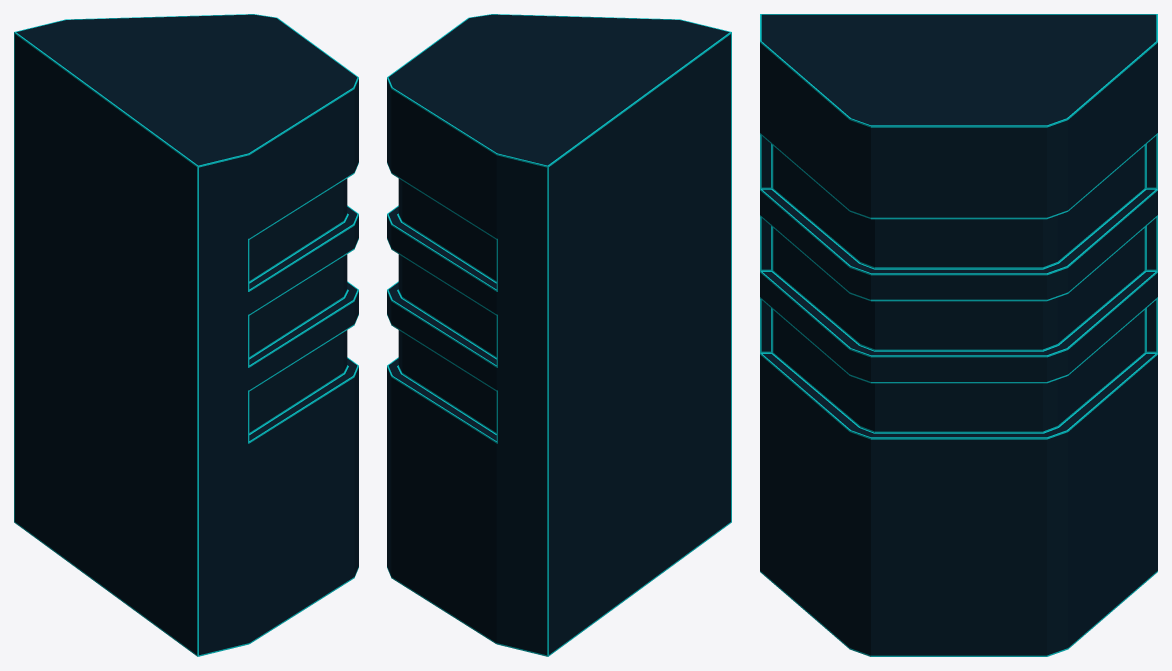
3 views of the same model, side by side, from view 1: azimuth 30°, elevation 25°; view 2: azimuth 150°, elevation 25°; view 3: azimuth 270°, elevation 25° (orthographic). The views are drawn at different scales.
Visible parts, largest first — view 1: BuildingF02; view 2: BuildingF02; view 3: BuildingF02.
Part boxes in pixels (x1,y1,x2,y2): BuildingF02: [14, 14, 358, 656]; BuildingF02: [387, 14, 731, 656]; BuildingF02: [760, 14, 1157, 656].
Bounding box in the file's own units: 29.82 × 65.85 × 44.71.
1 material, 1 textured.
